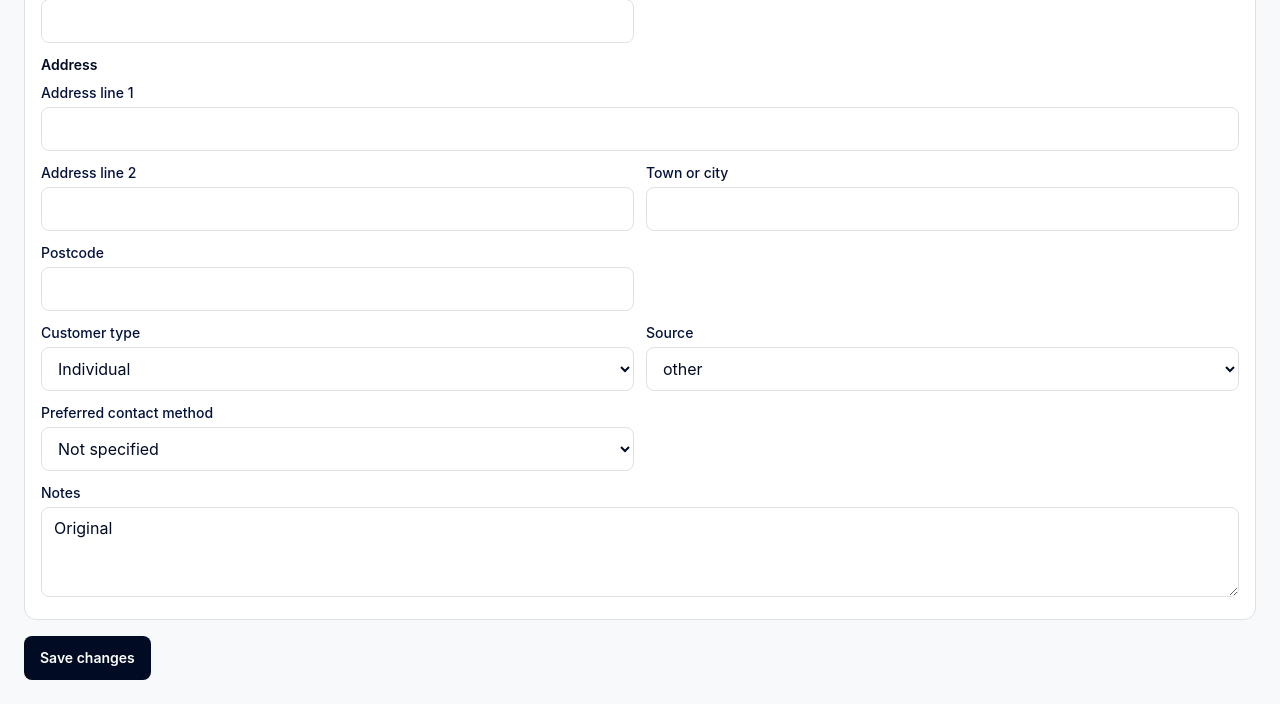
Test case: CustomerFormPage — edit › submits the loaded version, preserves a stale edit, and reloads only after explicit discard
The image size is (1280, 704).
(page scrolled)
Replace the text in the text box labelled "Notes" with "My unsaved edit" at (640, 552), box [41, 507, 1239, 597]
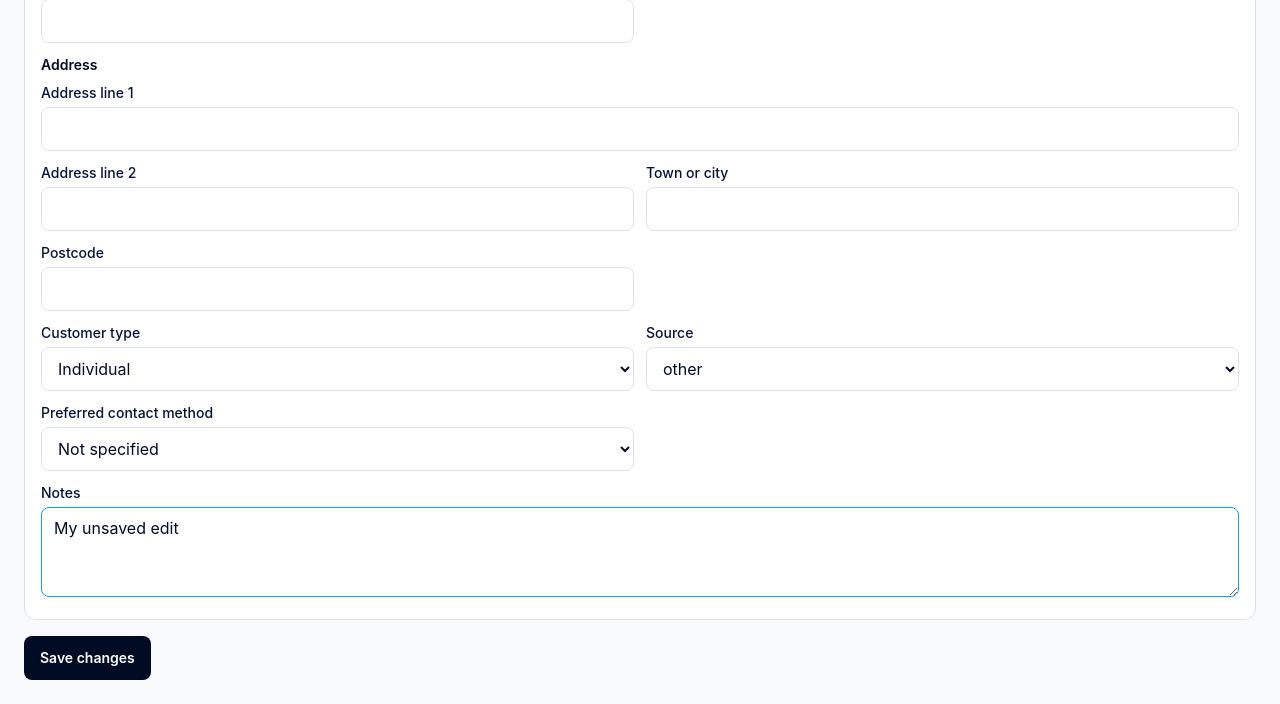
Click the button "Save changes" at (87, 658), box [24, 636, 151, 680]
(page scrolled)
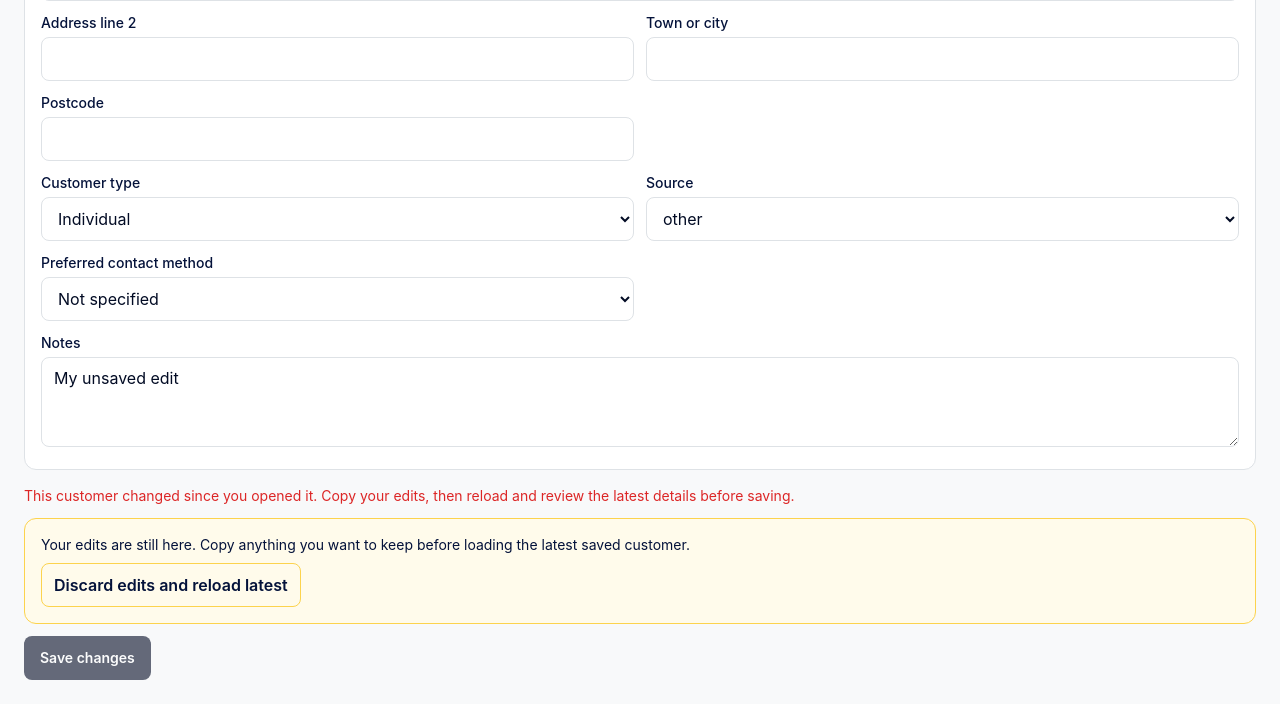
expect the message shows "customer changed": met, box [24, 487, 794, 504]
expect the button "Save changes" is disabled: met, box [24, 636, 151, 680]
Click the button "Discard edits and reload latest" at (171, 585), box [41, 563, 301, 607]
(page scrolled)
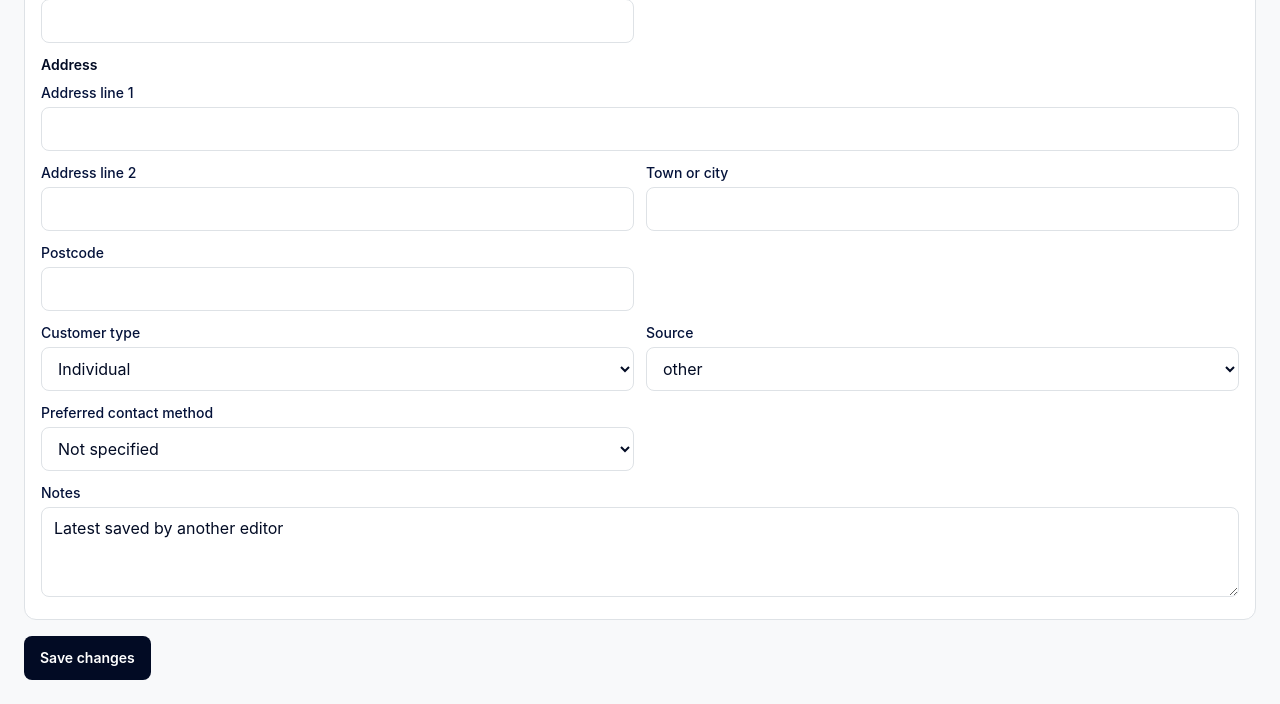
expect the text box showing "Latest saved by another editor" is shown: met, box [41, 507, 1239, 597]
expect the button "Save changes" is enabled: met, box [24, 636, 151, 680]
